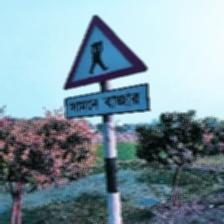Market-in-front: (62, 13, 152, 122)
